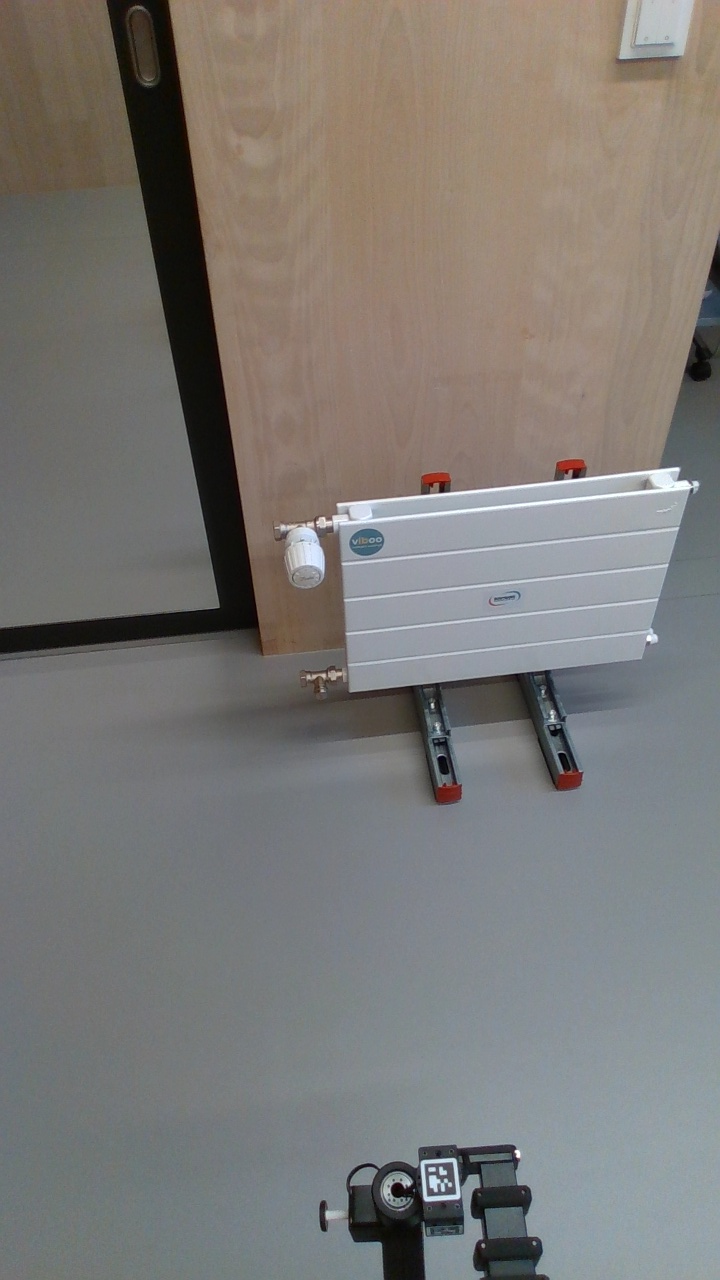Knob_Radiator: (272, 518, 335, 598)
Radiator: (327, 460, 703, 700)
